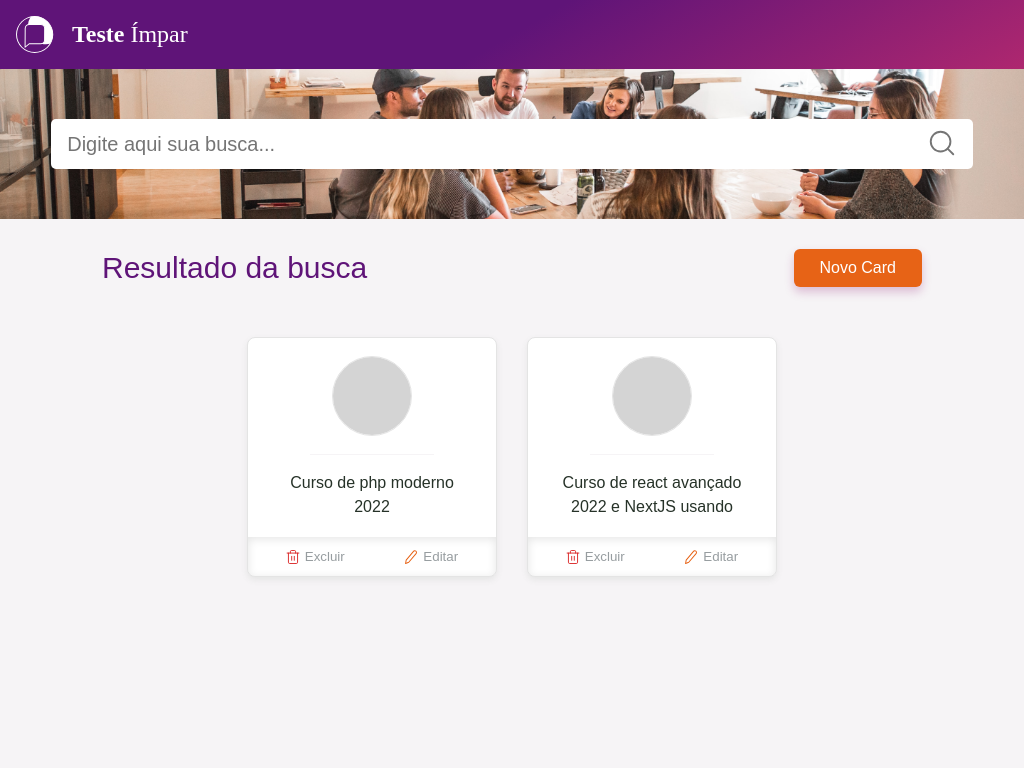
Home page › should the edit modal is appearing on the screen
Click the button with test id "button". click: (859, 268)
box: [794,249,923,287]
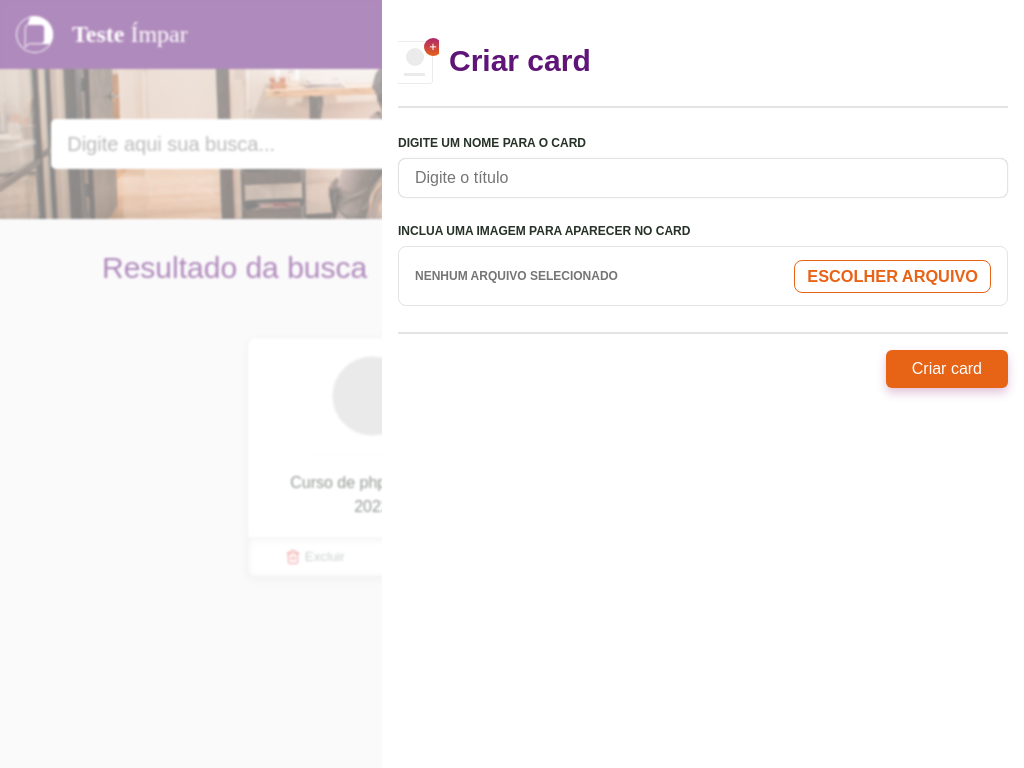
expect the element with test id "card-edit" is shown: met
